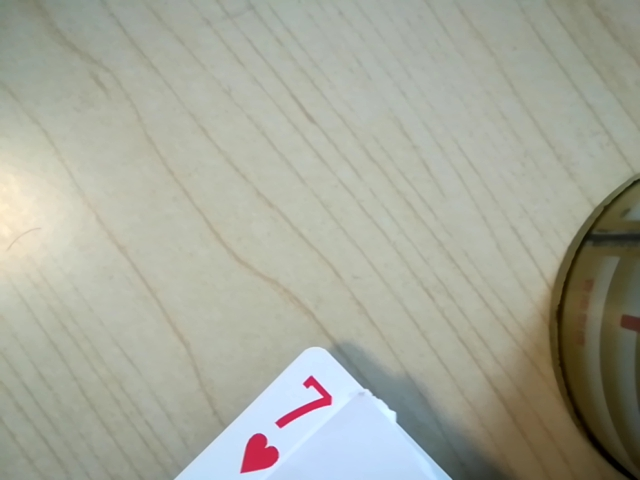hx 7: (234, 372, 341, 462)
